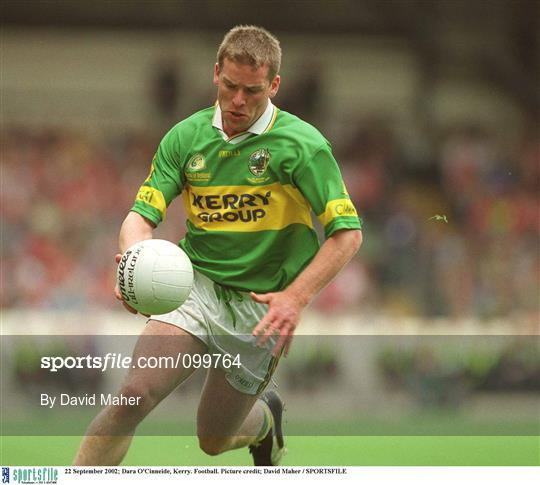ball: (117, 237, 190, 327)
player: (148, 14, 339, 453)
